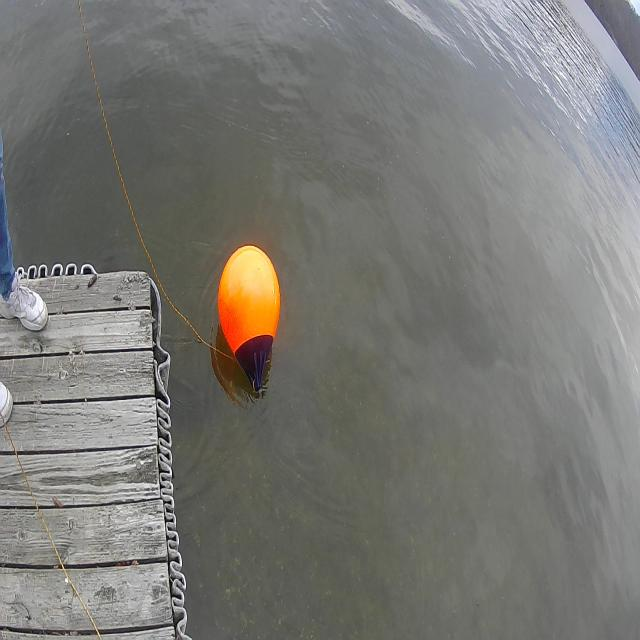Buoy: (214, 241, 284, 358)
